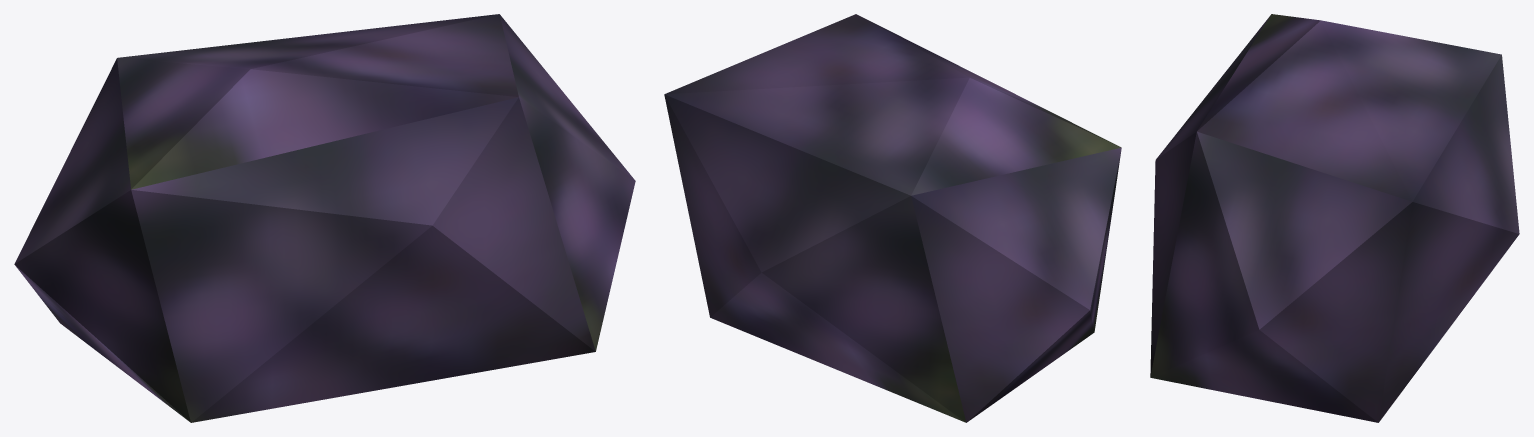
The model's file is AlienPlant_1_Blob.gltf.
The picture shows the model from 3 angles, left to right: view 1: azimuth 30°, elevation 25°; view 2: azimuth 150°, elevation 25°; view 3: azimuth 270°, elevation 25°; orthographic projection. The views are drawn at different scales.
Parts seen in each view (by area): view 1: AlienPlant_1_Blob; view 2: AlienPlant_1_Blob; view 3: AlienPlant_1_Blob.
Part boxes in pixels (x1,y1,x2,y2): AlienPlant_1_Blob: (14, 14, 635, 422); AlienPlant_1_Blob: (664, 14, 1121, 422); AlienPlant_1_Blob: (1150, 14, 1519, 422).
Size of the model in its own units: 0.5747 by 0.3236 by 0.3791.
Materials: 1 (1 with a texture image).
